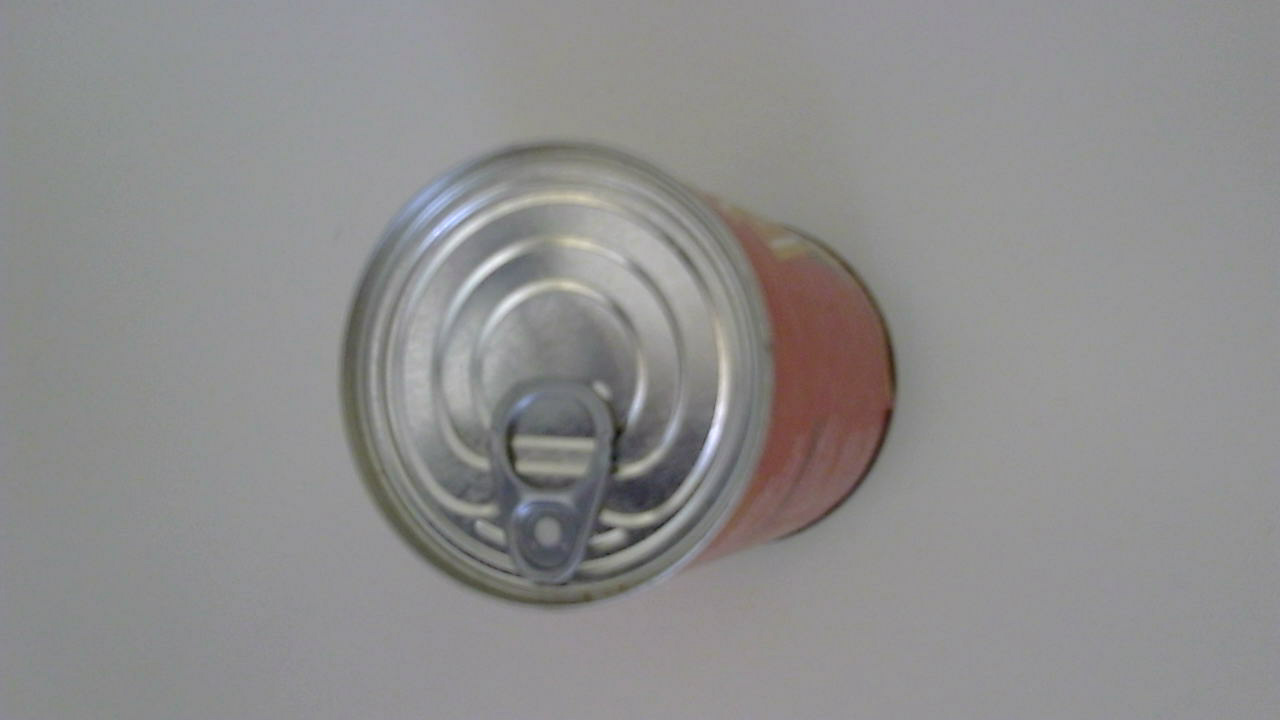Metal Tin: (337, 143, 905, 620)
